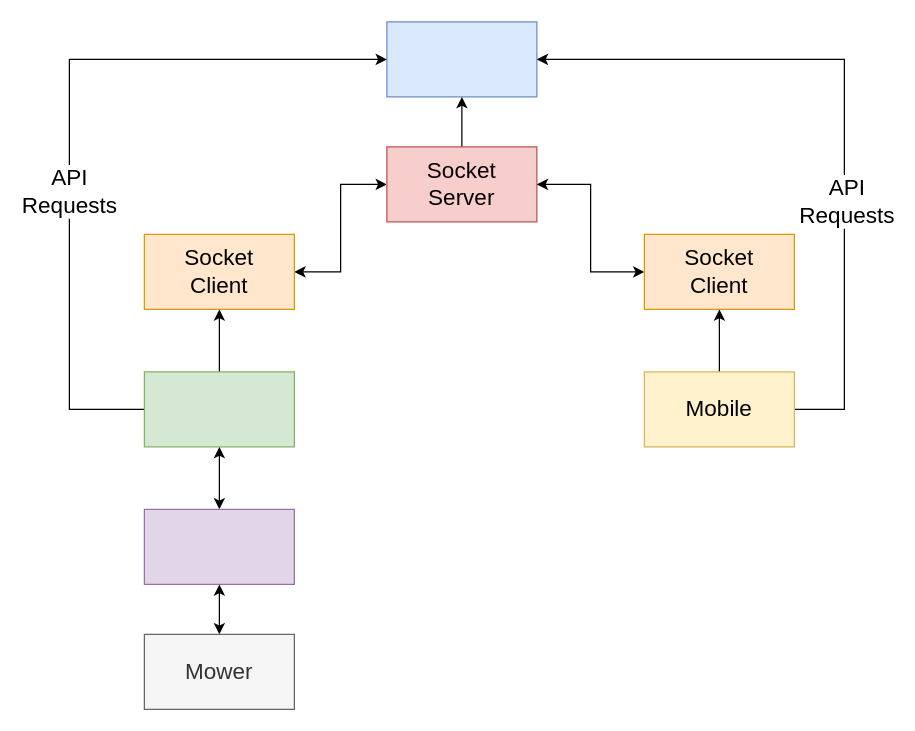
Image size: 915x731. Some labels were removed from this diagram. Here are the shapes that lost their labels. From the top down, the centre of each, then its label:
At pixel 461 59: "Backend".
At pixel 218 409: "Raspberry".
At pixel 218 546: "Arduino".
